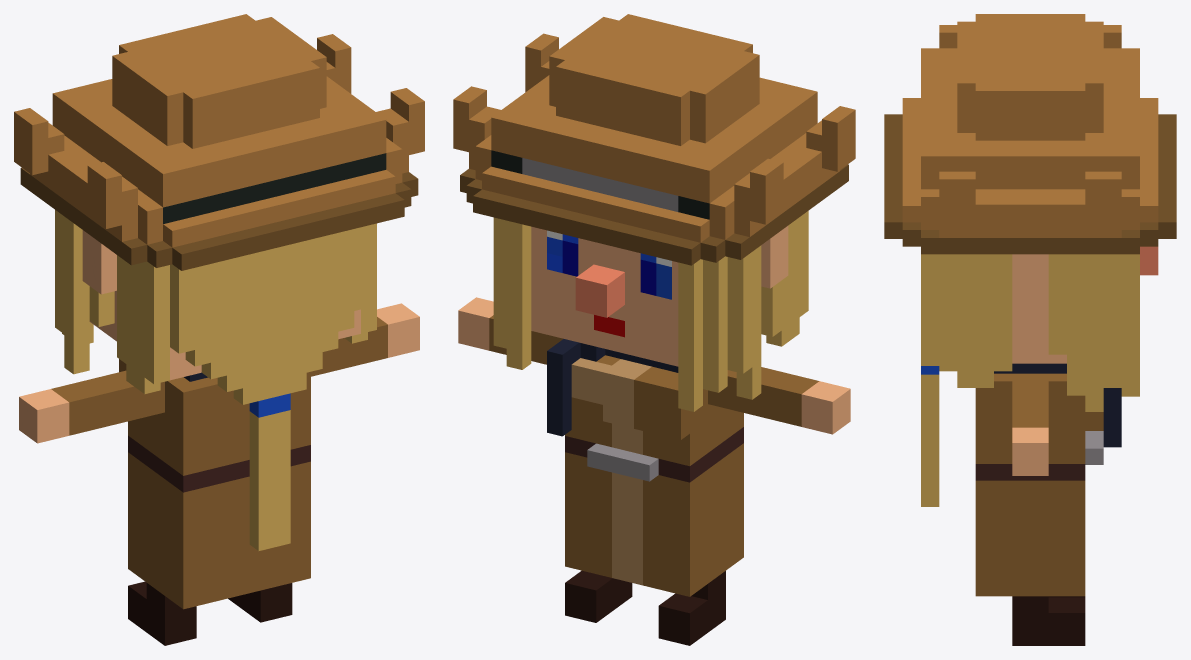
The model's file is farmer.fbx.
The picture shows the model from 3 angles, left to right: view 1: azimuth 30°, elevation 25°; view 2: azimuth 150°, elevation 25°; view 3: azimuth 270°, elevation 25°; orthographic projection. The views are drawn at different scales.
Visible parts, largest first — view 1: ObjObject.003; view 2: ObjObject.003; view 3: ObjObject.003.
Part boxes in pixels (x1=…): ObjObject.003: x1=14, y1=14, x2=424, y2=645; ObjObject.003: x1=453, y1=14, x2=855, y2=645; ObjObject.003: x1=884, y1=14, x2=1176, y2=645.
Bounding box in the file's own units: 67.2 × 95.2 × 44.8.
Materials: 1 (1 with a texture image).
